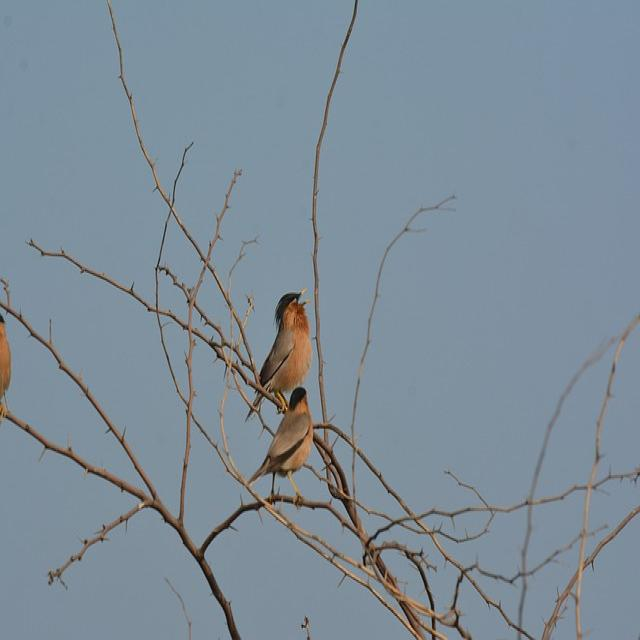bird: (242, 384, 329, 508), (255, 295, 316, 400), (430, 600, 472, 637), (42, 563, 73, 590)
